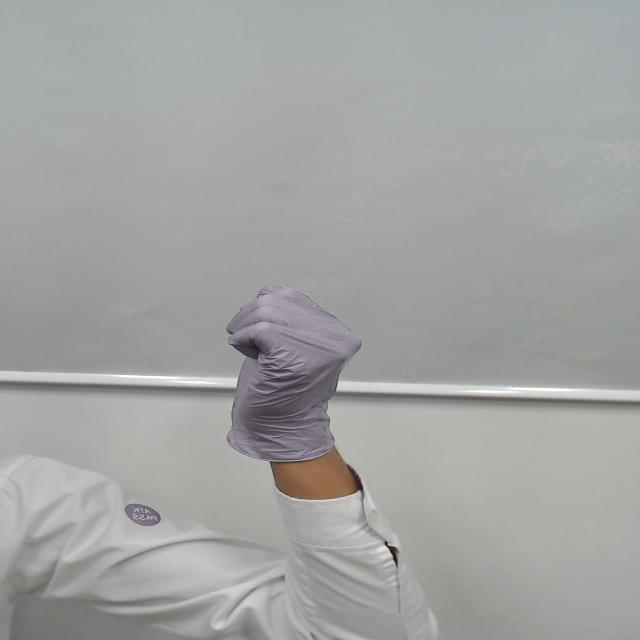glove: (205, 279, 378, 408)
